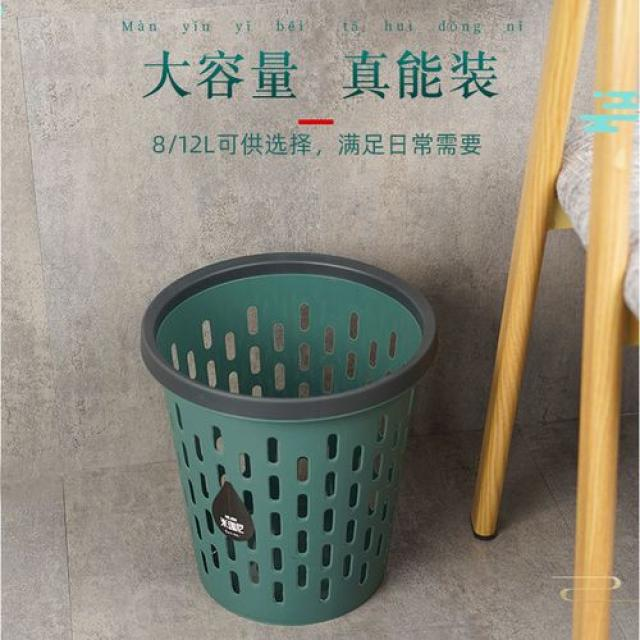dustbin: (132, 245, 446, 633)
